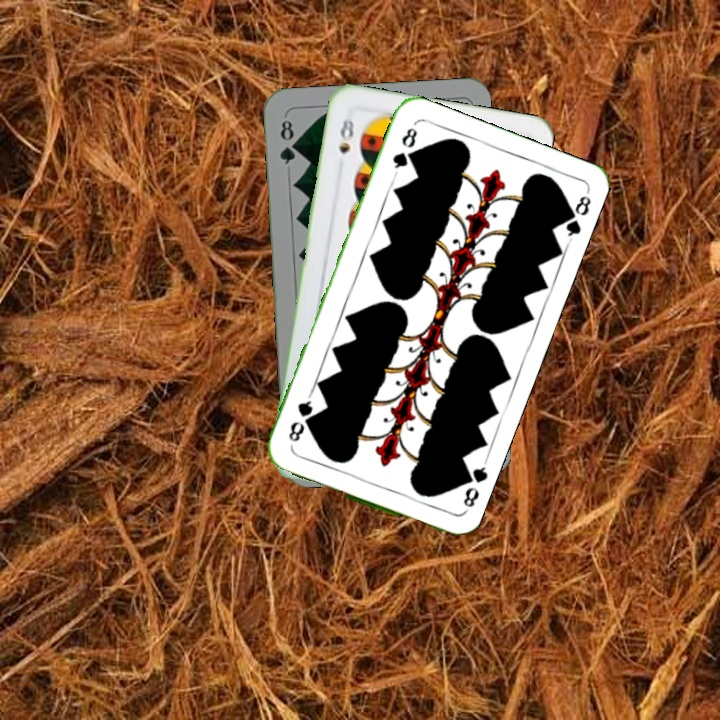G8: (456, 459, 490, 516), (388, 123, 420, 178), (275, 113, 299, 167)
S8: (335, 108, 357, 157)
